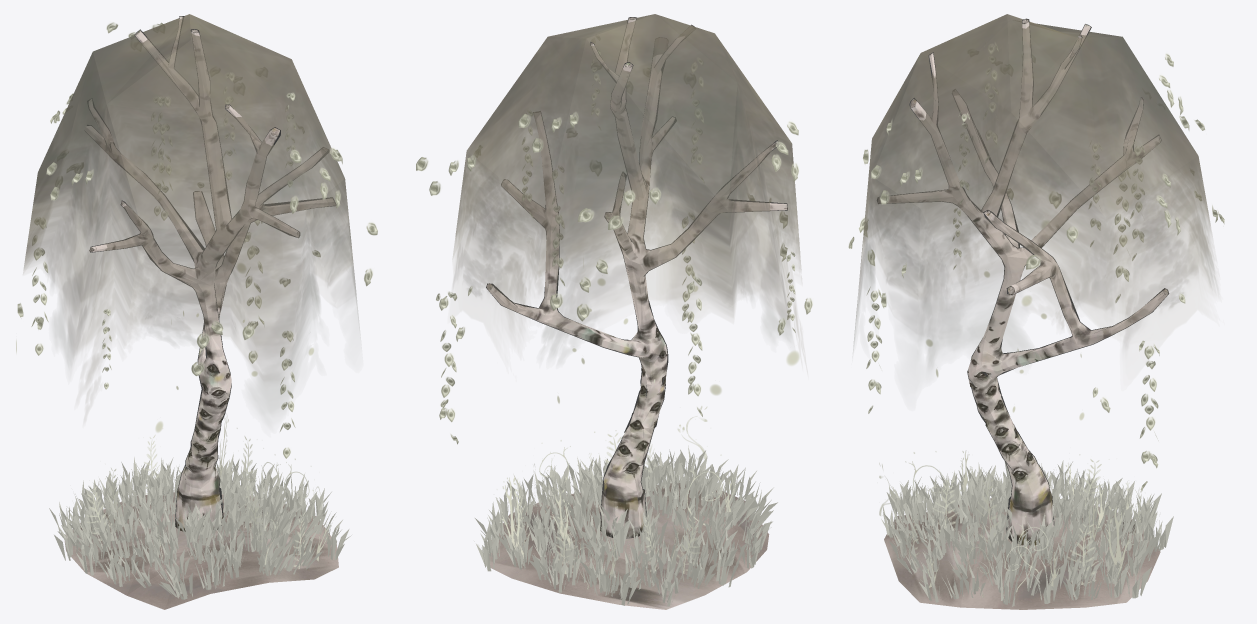
Rendered from birch_2.glb.
3 renders of one model, left to right at view 1: azimuth 30°, elevation 25°; view 2: azimuth 150°, elevation 25°; view 3: azimuth 270°, elevation 25°, orthographic. The views are drawn at different scales.
Parts seen in each view (by area): view 1: Object_2, Object_5, Object_6, Object_3, Object_7, Object_4; view 2: Object_2, Object_5, Object_6, Object_7, Object_3, Object_4; view 3: Object_2, Object_5, Object_6, Object_3, Object_7, Object_4.
Boxes of the visible parts, <box> form: Object_2: <box>23,14,359,412</box>; Object_5: <box>49,454,351,599</box>; Object_6: <box>85,16,335,531</box>; Object_3: <box>64,492,338,609</box>; Object_7: <box>16,22,377,568</box>; Object_4: <box>85,16,332,524</box>; Object_2: <box>453,14,801,353</box>; Object_5: <box>474,445,777,606</box>; Object_6: <box>486,17,787,538</box>; Object_7: <box>416,51,812,589</box>; Object_3: <box>489,483,769,609</box>; Object_4: <box>486,17,787,518</box>; Object_2: <box>853,14,1217,367</box>; Object_5: <box>881,460,1173,606</box>; Object_6: <box>878,19,1168,545</box>; Object_3: <box>884,498,1160,609</box>; Object_7: <box>848,42,1224,597</box>; Object_4: <box>877,18,1169,532</box>.
Size of the model in its own units: 1.95 by 2.9 by 1.95.
6 materials, 4 textured.
